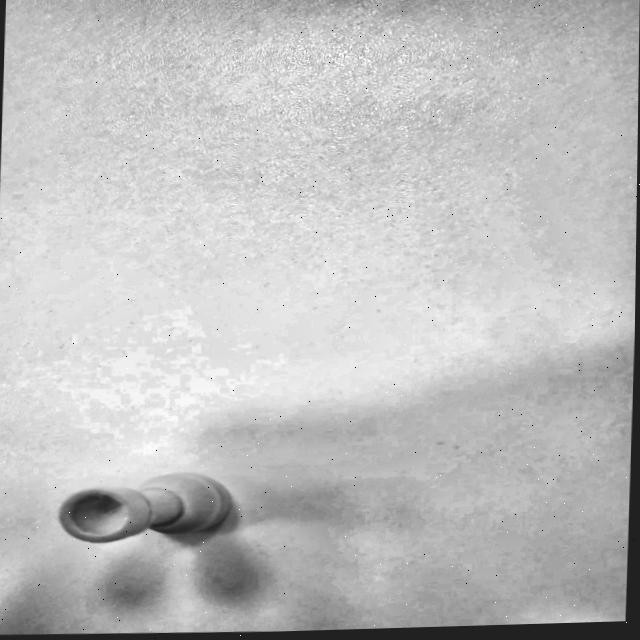white-rook: (58, 473, 250, 592)
